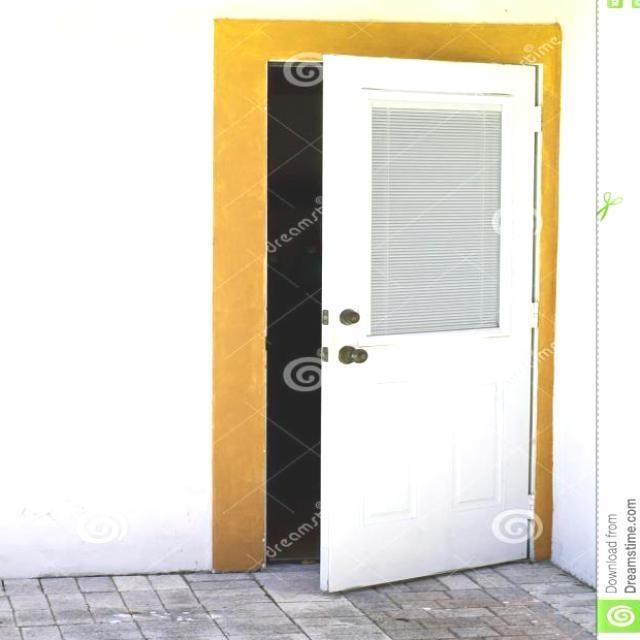door: (317, 53, 539, 593)
